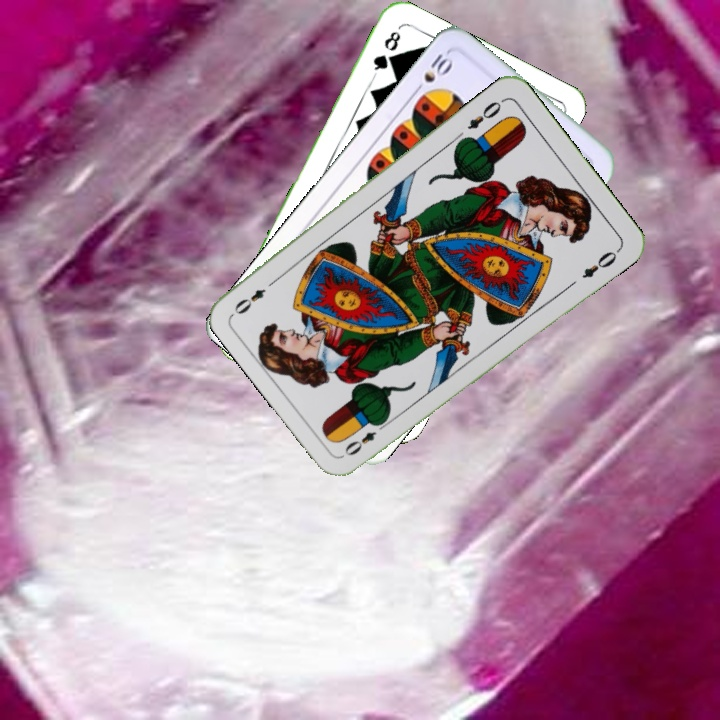EO: (340, 417, 390, 459), (463, 94, 507, 132)
G8: (368, 26, 403, 79)
S10: (409, 48, 456, 97)
